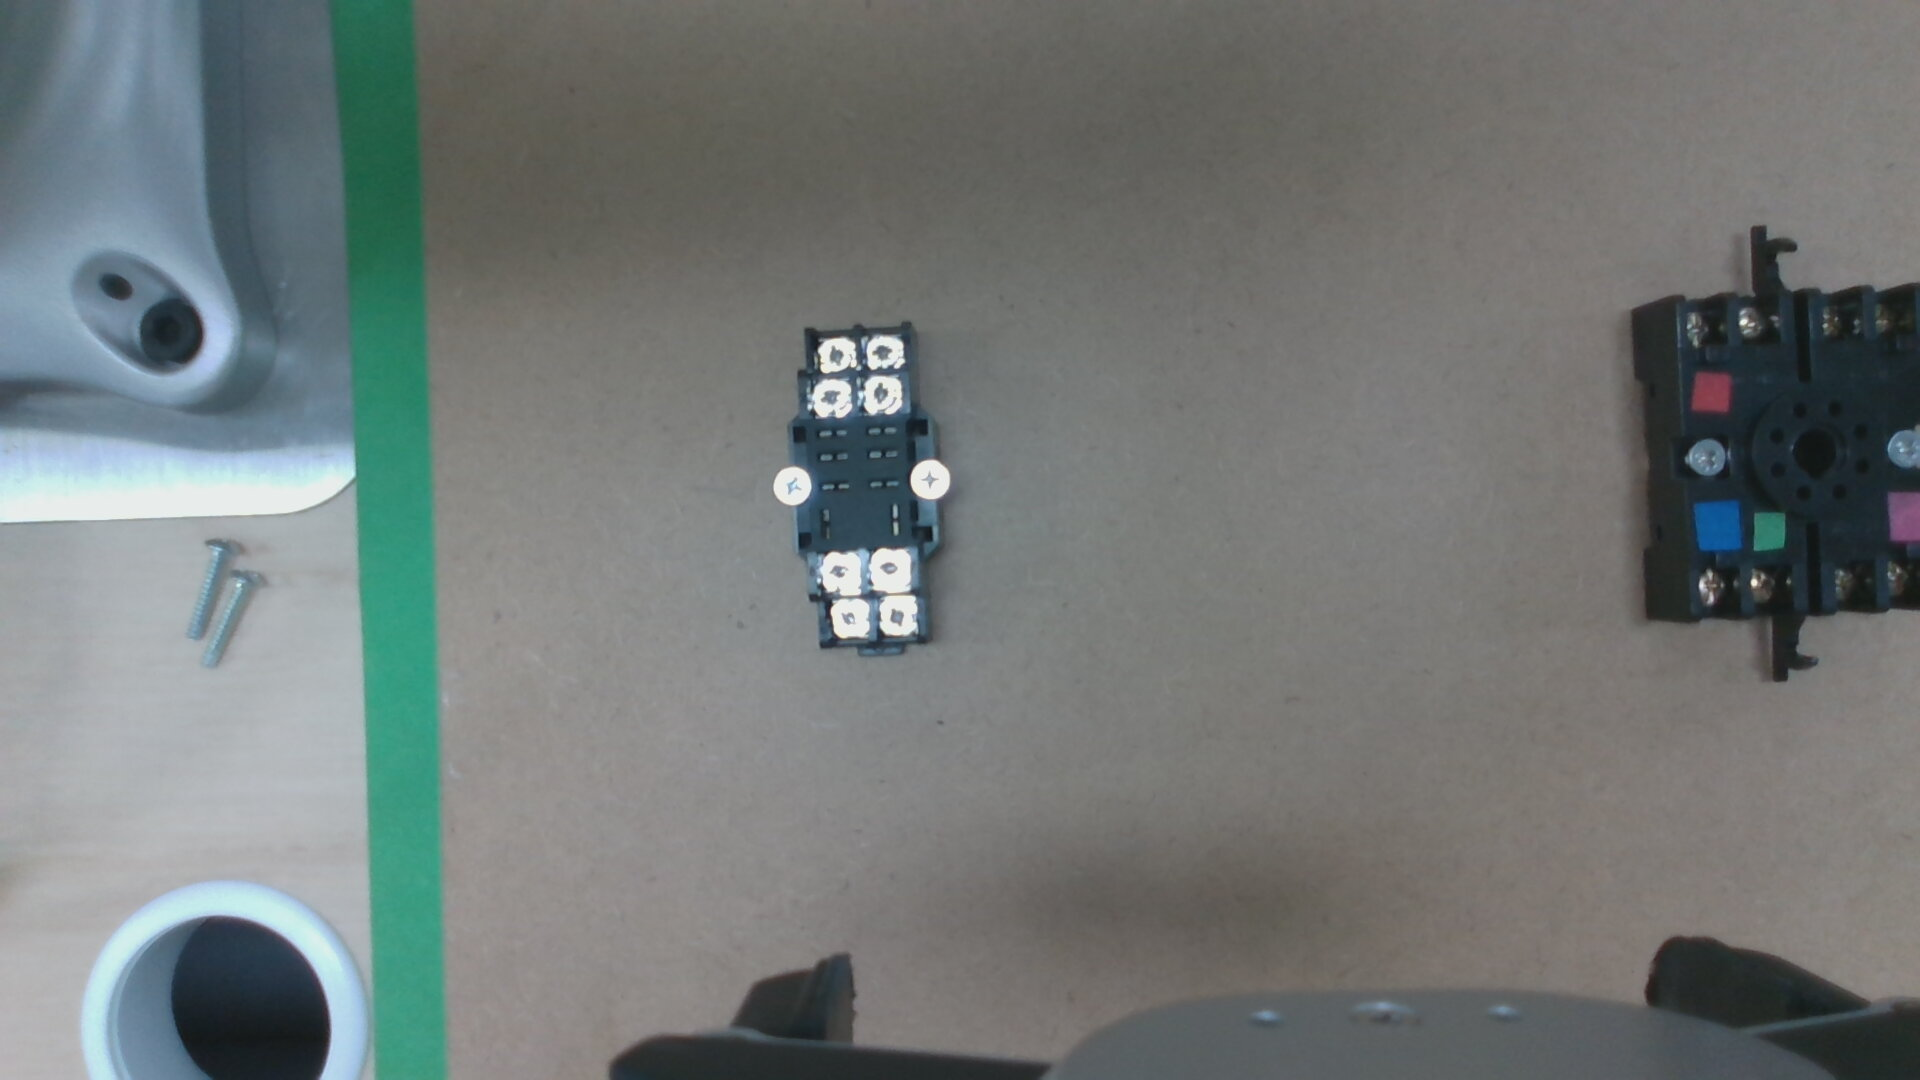relay 3: (862, 335, 903, 368)
relay 4: (814, 338, 855, 371)
relay 5: (877, 599, 916, 634)
relay 6: (828, 603, 869, 636)
relay 7: (870, 551, 909, 588)
relay 8: (822, 555, 858, 589)
